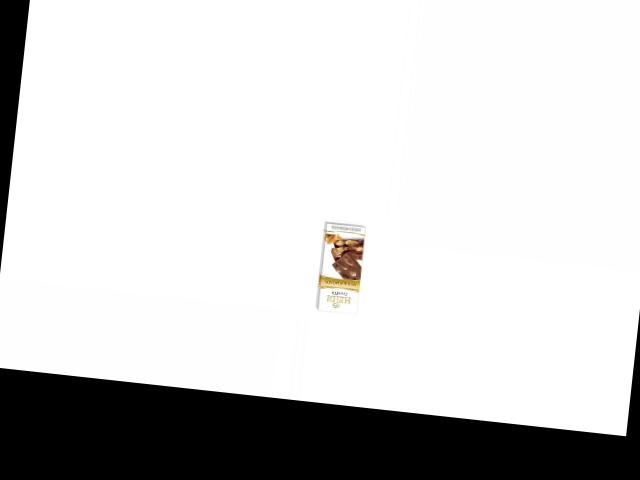chocolate: (307, 221, 375, 320)
